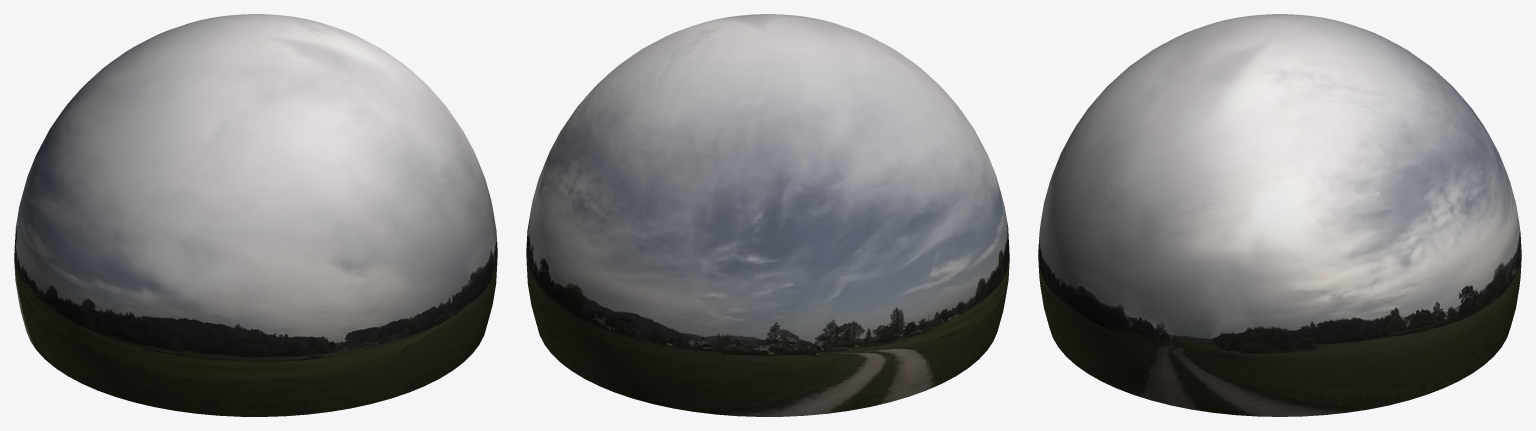
The model's file is SM_SkySphere.FBX.
3 views of the same model, side by side, from view 1: azimuth 30°, elevation 25°; view 2: azimuth 150°, elevation 25°; view 3: azimuth 270°, elevation 25° (orthographic).
Parts seen in each view (by area): view 1: Sphere001; view 2: Sphere001; view 3: Sphere001.
Boxes of the visible parts, box(x1,y1,x2,y2) form: Sphere001: box(14, 14, 497, 416); Sphere001: box(526, 14, 1009, 416); Sphere001: box(1038, 14, 1521, 416).
Bounding box in the file's own units: 40000 × 25806 × 40000.
